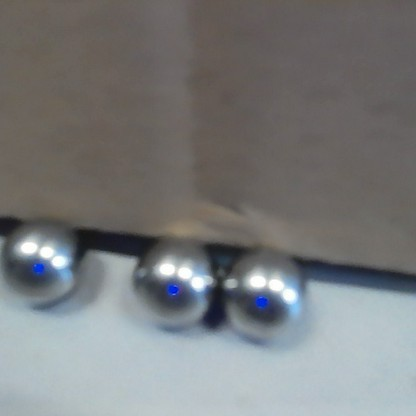ironball: (213, 241, 315, 341), (0, 209, 94, 312), (127, 229, 218, 333)
